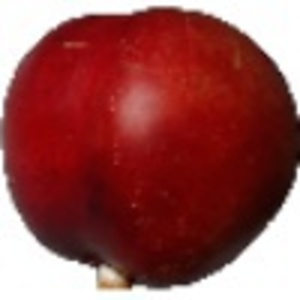nectarina: (1, 3, 300, 298)
